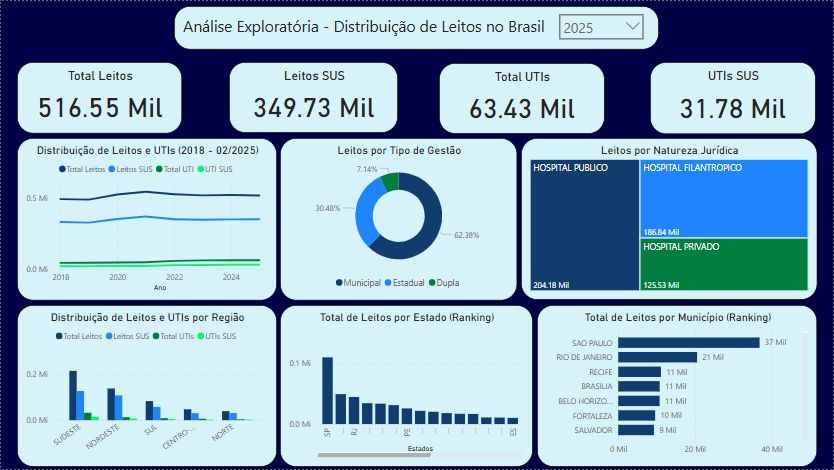

What the dashboard file says about the page in this screenshot:
{"tool":"powerbi","page":{"name":"Página 1","canvas":[1280,720],"ordinal":0},"visuals":[{"type":"textbox","box":[265.6,8.2,745.9,67.2],"z":0},{"type":"card","title":"Total Leitos","fields":{"Values":["Medidas.MedidaLeitosTotal"]},"box":[24.4,94.5,254.5,109.7],"z":1000},{"type":"slicer","title":"Selecione o Ano","fields":{"Values":["TabelaAnos.Ano"]},"box":[849.2,11.5,149.2,57.4],"z":2000},{"type":"card","title":"Leitos SUS","fields":{"Values":["Medidas.MedidaLeitosSUS"]},"box":[351.4,94.3,260.5,109.3],"z":3000},{"type":"treemap","title":"Leitos por Natureza jurídica","fields":{"Group":["Leitos.DESC_NATUREZA_JURIDICA"],"Values":["Medidas.Leitos_NatJur_Total"]},"box":[800,211.5,455.7,249.2],"z":4000},{"type":"clusteredColumnChart","title":"Distribuição de Leitos e UTIs Por Região","fields":{"Category":["Leitos.REGIAO"],"Y":["Medidas.MedidaLeitosTotal","Medidas.MedidaLeitosSUS","Medidas.MedidaUTITotal","Medidas.Medida_UTI_SUS"]},"box":[24.6,467.2,400,249.2],"z":5000},{"type":"donutChart","title":"Leitos Por Tipo de Gestão","fields":{"Y":["Medidas.Leitos_Gestao_Total"],"Category":["Leitos.TP_GESTAO"]},"box":[429.2,211.1,365.3,250],"z":6000},{"type":"lineChart","title":"Distribuição de Leitos e UTIs (2018 - 02/2025)","fields":{"Category":["TabelaAnos.Ano"],"Y":["Medidas.MedidaLeitosTotal","Medidas.MedidaLeitosSUS","Medidas.Medida_UTI_Total","Medidas.Medida_UTI_SUS"]},"box":[25,211.1,399.7,250],"z":7000},{"type":"clusteredBarChart","title":"Total de Leitos por Município (Ranking)","fields":{"Category":["Leitos.MUNICIPIO"],"Y":["Medidas.Top5_Cidades_Total"]},"box":[824.6,467.2,431.1,249.2],"z":8000},{"type":"clusteredColumnChart","title":"Total de Leitos por Estado (Ranking)","fields":{"Category":["Leitos.UF"],"Y":["Medidas.MedidaLeitosTotal"]},"box":[429.5,467.2,388.5,249.2],"z":9000},{"type":"card","title":"Total UTIs","fields":{"Values":["Medidas.Medida_UTI_Total"]},"box":[673.2,95.8,254.5,109.3],"z":10000},{"type":"card","title":"UTIs SUS","fields":{"Values":["Medidas.Medida_UTI_SUS"]},"box":[998.1,94.3,254.5,110.8],"z":11000}]}

Visuals, with their boxes in screenshot pixels (x1, y1, x2, y2), scaled from the page's 1280x720 canvas onto the 834x470 screenshot:
textbox: crop(173, 5, 659, 49)
"Total Leitos" card: crop(16, 62, 182, 133)
"Selecione o Ano" slicer: crop(553, 8, 651, 45)
"Leitos SUS" card: crop(229, 62, 399, 133)
"Leitos por Natureza jurídica" treemap: crop(521, 138, 818, 301)
"Distribuição de Leitos e UTIs Por Região" clusteredColumnChart: crop(16, 305, 277, 468)
"Leitos Por Tipo de Gestão" donutChart: crop(280, 138, 518, 301)
"Distribuição de Leitos e UTIs (2018 - 02/2025)" lineChart: crop(16, 138, 277, 301)
"Total de Leitos por Município (Ranking)" clusteredBarChart: crop(537, 305, 818, 468)
"Total de Leitos por Estado (Ranking)" clusteredColumnChart: crop(280, 305, 533, 468)
"Total UTIs" card: crop(439, 63, 604, 134)
"UTIs SUS" card: crop(650, 62, 816, 134)
